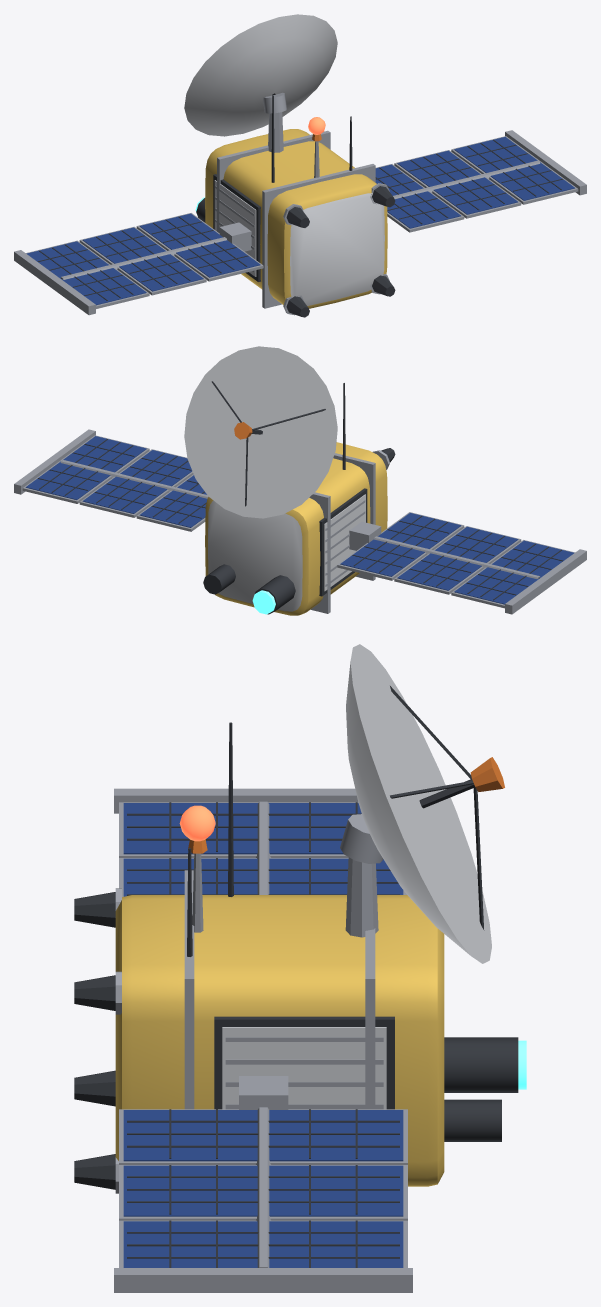
Rendered from satellite_a.glb.
3 views of the same model, one above another, from view 1: azimuth 30°, elevation 25°; view 2: azimuth 150°, elevation 25°; view 3: azimuth 270°, elevation 25° (orthographic). The views are drawn at different scales.
Visible parts, largest first — view 1: Body, SolarPanels; view 2: Body, SolarPanels; view 3: Body, SolarPanels, BlinkLight.
Boxes of the visible parts, bbox=[...] form: Body: bbox=[60, 14, 540, 317]; SolarPanels: bbox=[14, 130, 586, 315]; Body: bbox=[60, 346, 539, 615]; SolarPanels: bbox=[14, 429, 586, 614]; Body: bbox=[74, 644, 526, 1267]; SolarPanels: bbox=[114, 788, 412, 1292]; BlinkLight: bbox=[179, 805, 215, 841].
Bounding box in the file's own units: 7 × 3.33 × 2.75.
